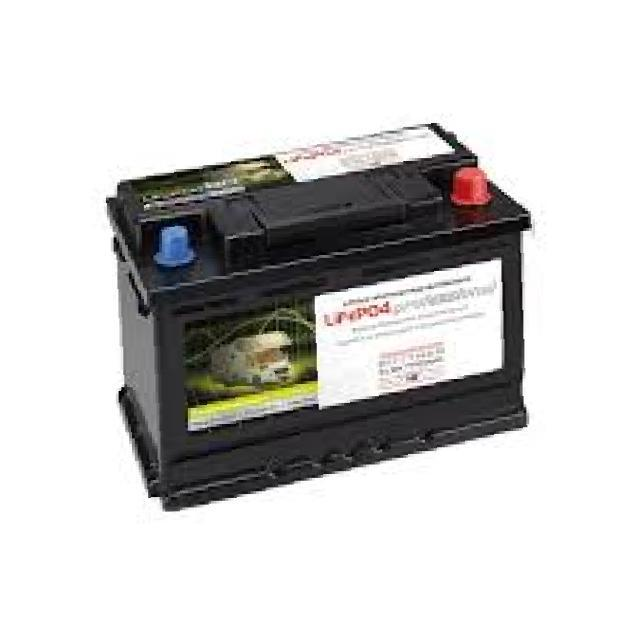Battery: (73, 92, 559, 540)
